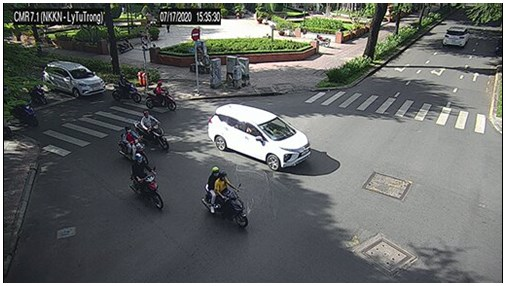xe_hoi: (208, 104, 311, 170), (43, 61, 107, 96), (443, 26, 469, 47)
xe_may: (201, 166, 247, 227), (126, 153, 164, 209), (133, 111, 169, 150), (116, 127, 148, 161), (146, 82, 178, 111), (112, 75, 142, 103), (15, 98, 38, 128), (25, 81, 47, 105), (117, 38, 134, 54)
